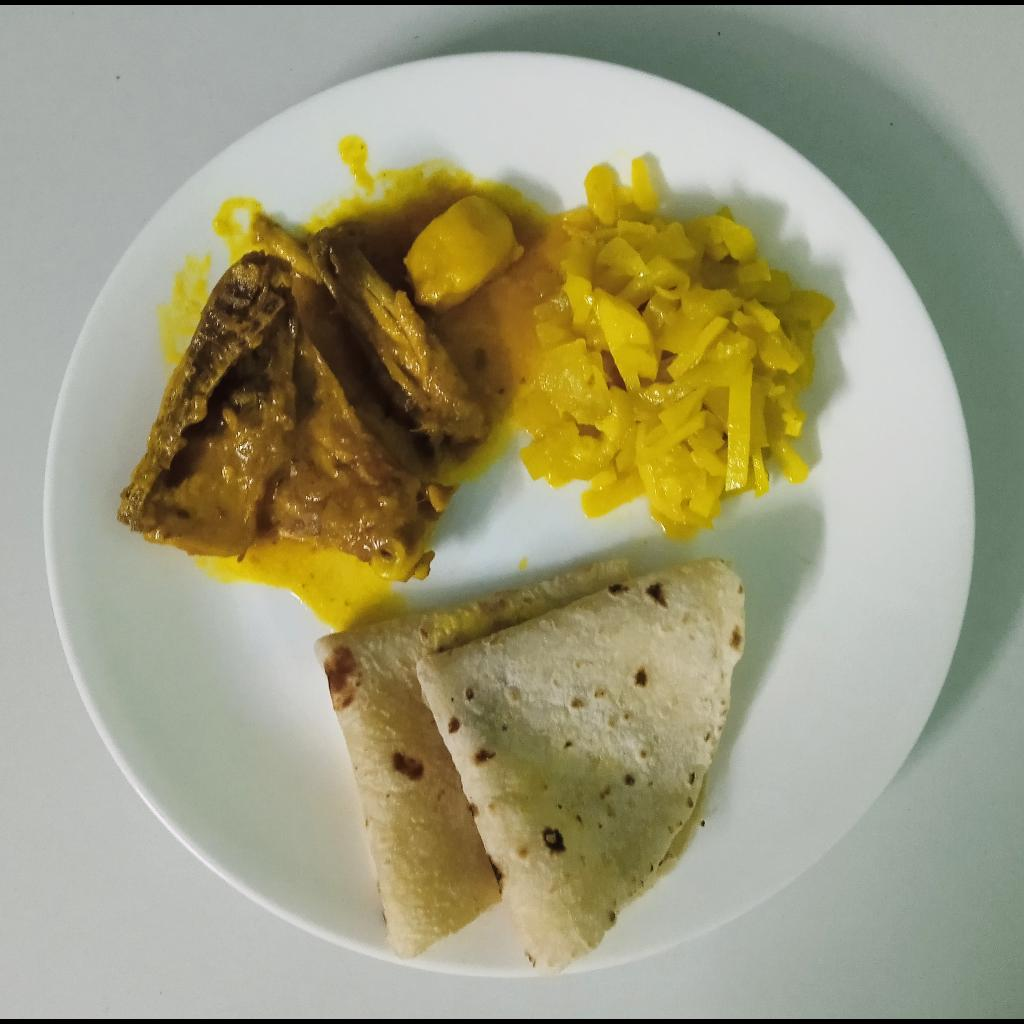chicken: (118, 218, 495, 579)
potato: (406, 189, 529, 309)
potol: (502, 155, 842, 542)
ruti: (316, 557, 750, 973)
